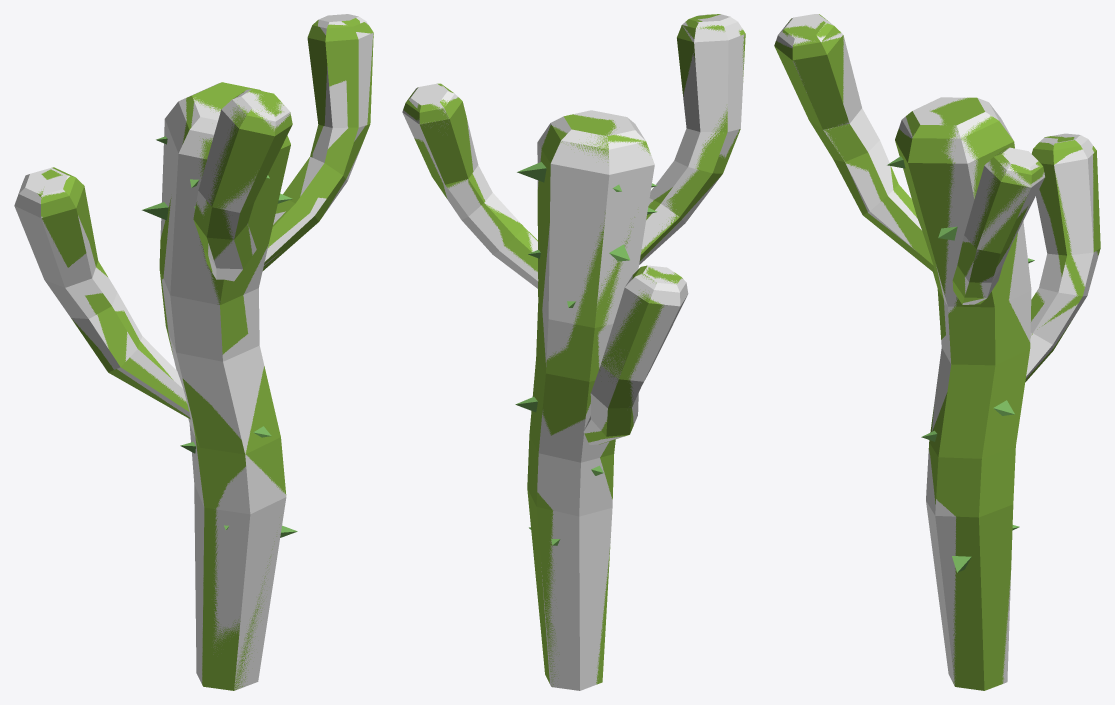
File: model_tree_cactus_small.fbx
3 renders of one model, left to right at view 1: azimuth 30°, elevation 25°; view 2: azimuth 150°, elevation 25°; view 3: azimuth 270°, elevation 25°, orthographic. The views are drawn at different scales.
Parts seen in each view (by area): view 1: model_tree_cactus_small_col, model_tree_cactus_small; view 2: model_tree_cactus_small_col, model_tree_cactus_small; view 3: model_tree_cactus_small, model_tree_cactus_small_col.
Part boxes in pixels (x1,y1,x2,y2): model_tree_cactus_small_col: (14,14,373,690); model_tree_cactus_small: (37,18,373,690); model_tree_cactus_small_col: (402,14,744,690); model_tree_cactus_small: (403,14,745,686); model_tree_cactus_small: (774,14,1100,690); model_tree_cactus_small_col: (776,14,1098,685).
Bounding box in the file's own units: 136 × 267 × 125.
Materials: 2 (1 with a texture image).
